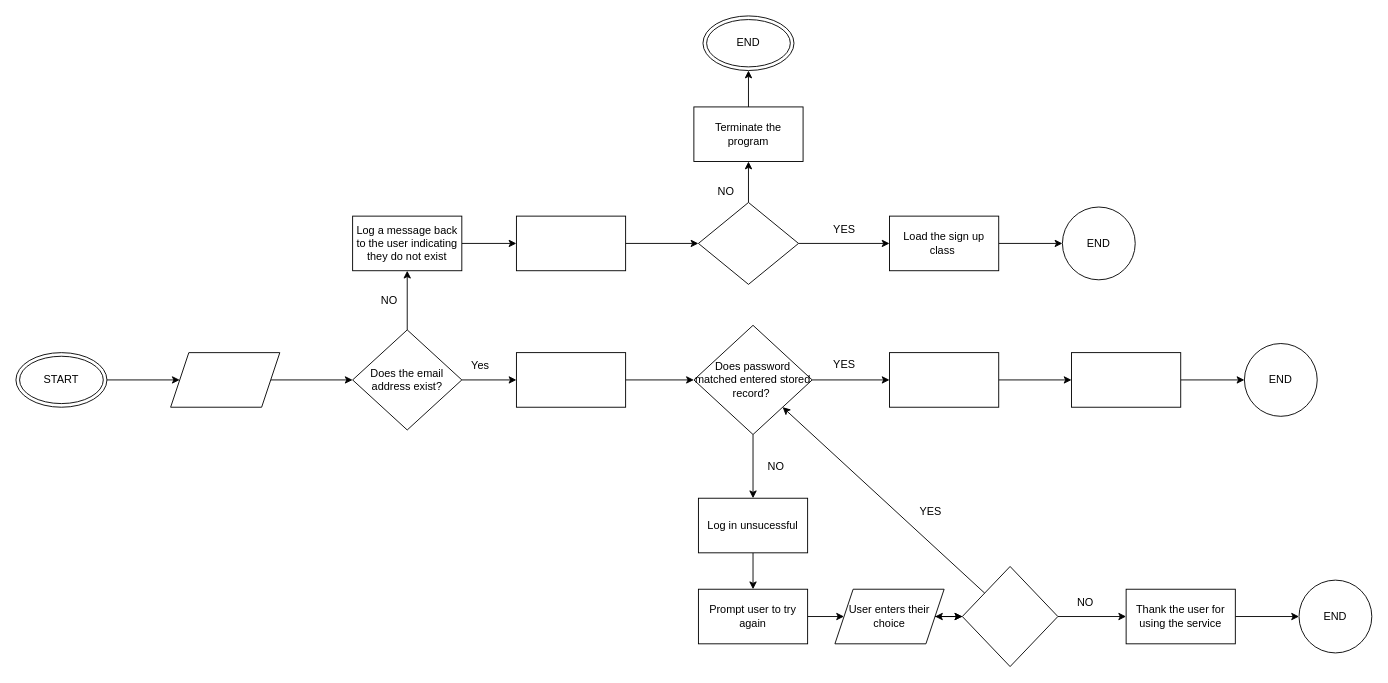
Image size: 1388x683. Some labels were removed from this diagram. Each missing label, with the centre of its shape:
"Display prompt if they want to sign up" belongs at (x=571, y=243).
"Does user want to sign up?" belongs at (x=748, y=243).
"Get user email +password" belongs at (x=225, y=379).
"Is another password entered?" belongs at (x=1009, y=616).
"Load their current balance and print menu" belongs at (x=1126, y=379).
"Log in successful" belongs at (x=944, y=379).
"Look up passwords" belongs at (x=571, y=379).
